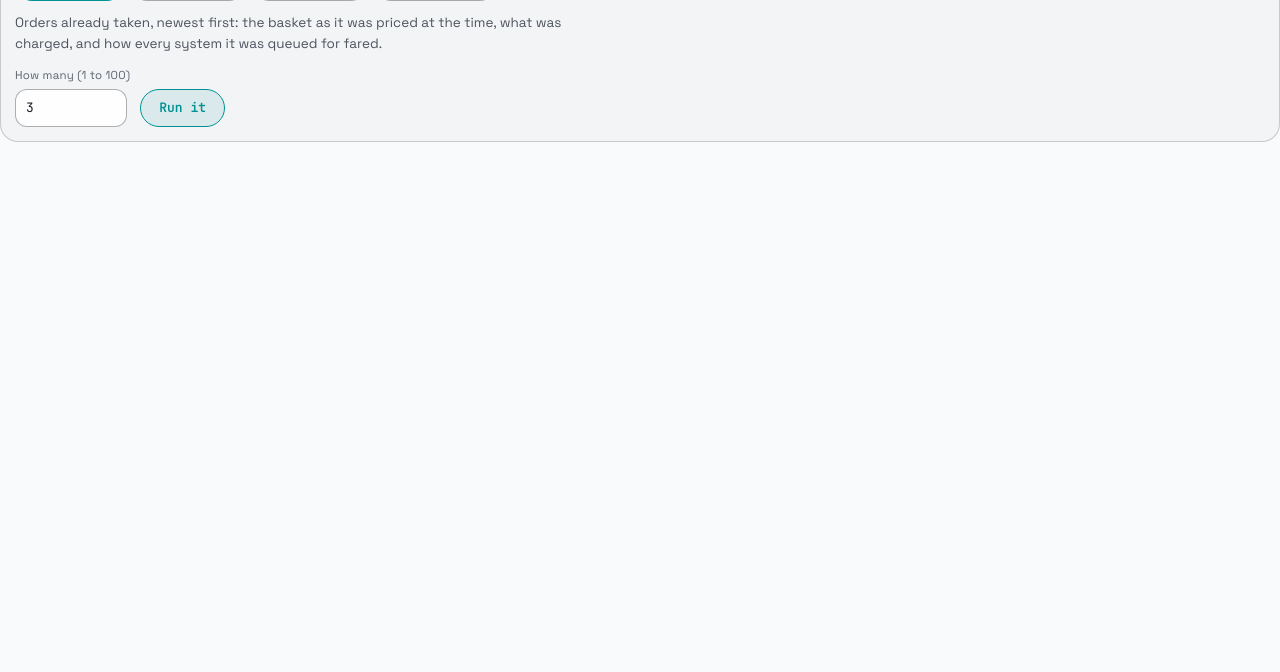
Scenario: McpConsole › prints the response body exactly as it arrived, and the same bytes decoded
Click the button with test id "mcp-run".
click(183, 108)  # box [140,89,225,127]
(page scrolled)
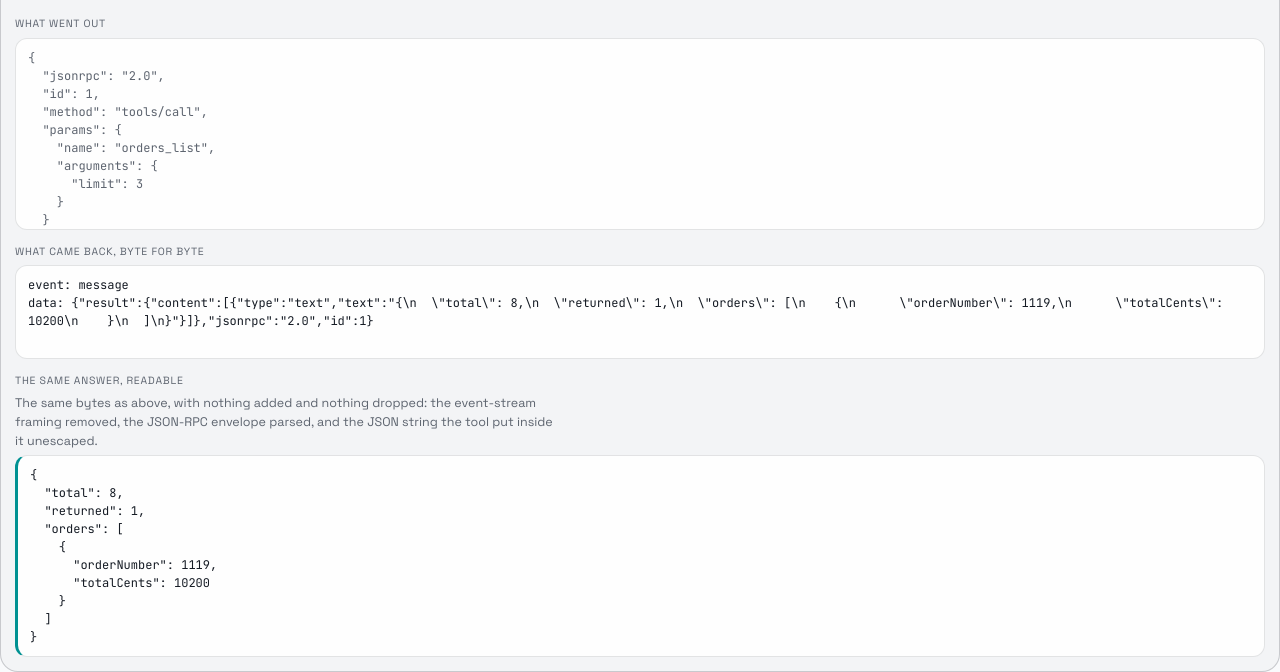
Now the text with test id "mcp-decoded" shows "\"orderNumber\": 1119", box [30,468,217,646]
